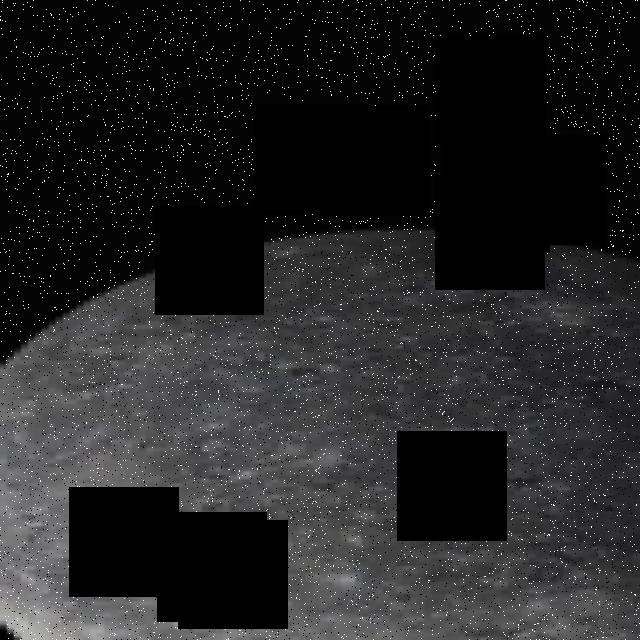Mercury: (0, 229, 640, 640)
